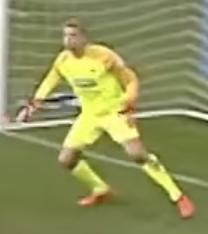goalkeeper: (7, 10, 200, 222)
